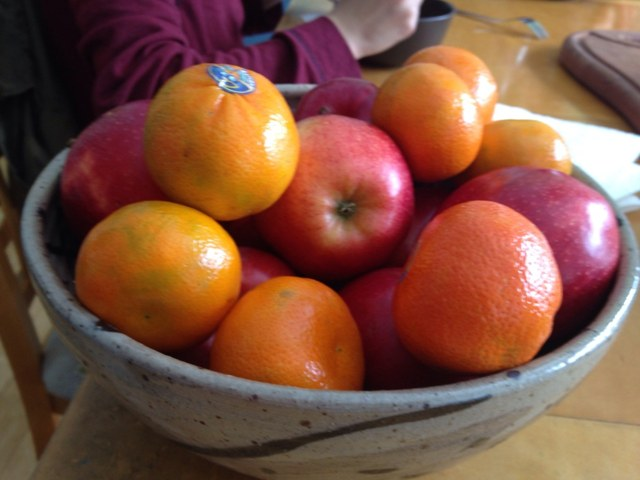bowl: (21, 84, 639, 479)
